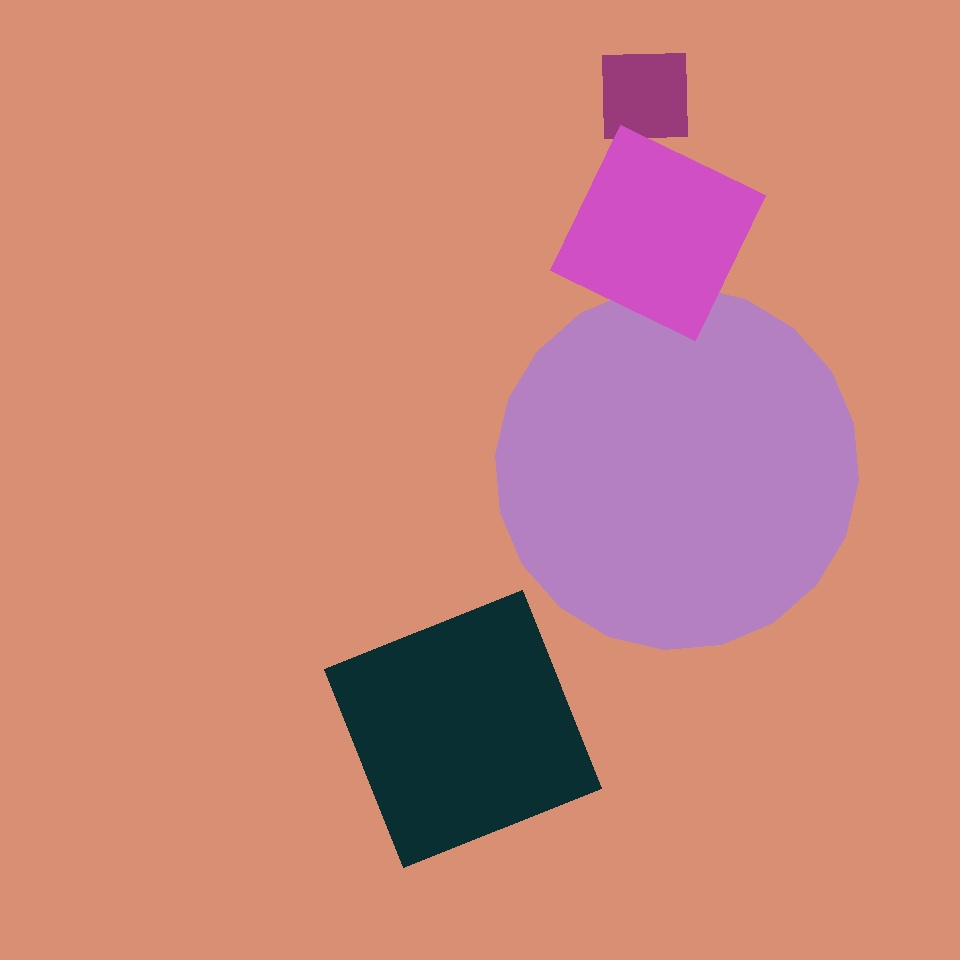circle: (250, 241, 526, 523), (180, 609, 361, 778), (222, 747, 381, 893), (588, 15, 713, 142)
square: (324, 590, 602, 868), (550, 126, 766, 340), (602, 54, 688, 138)
triangle: (496, 286, 858, 650), (395, 101, 623, 329), (168, 51, 373, 256)
